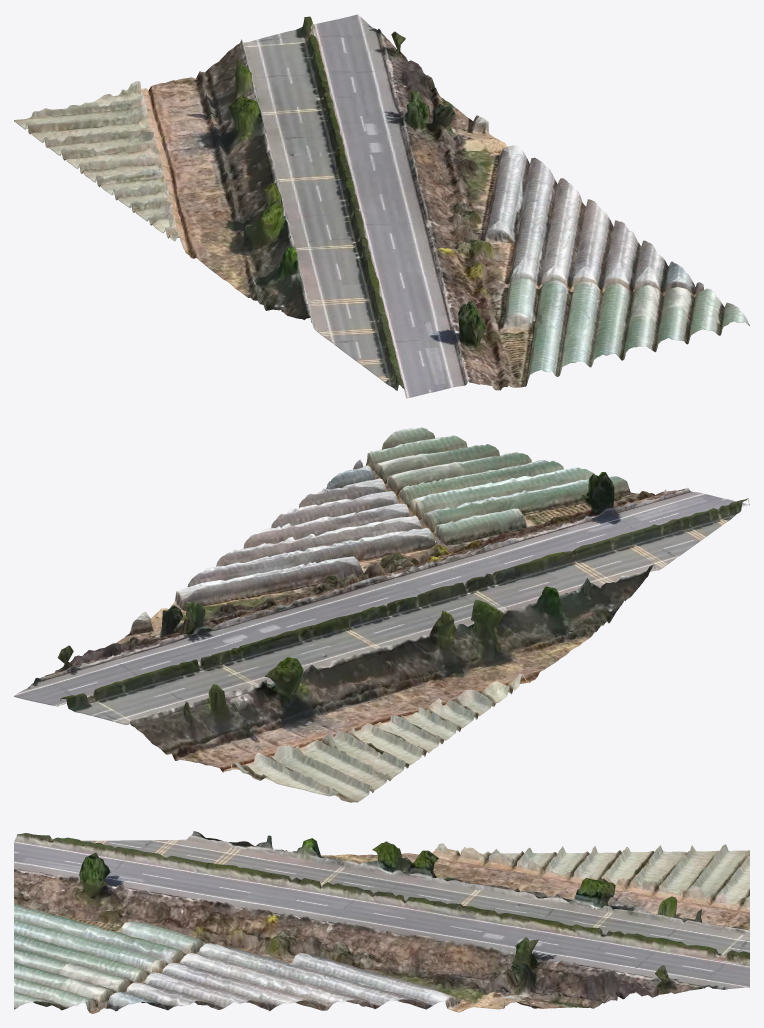
Rendered from BlockYB_L18_46.glb.
3 views of the same model, one above another, from view 1: azimuth 30°, elevation 25°; view 2: azimuth 150°, elevation 25°; view 3: azimuth 270°, elevation 25° (orthographic). The views are drawn at different scales.
Parts seen in each view (by area): view 1: rtc; view 2: rtc; view 3: rtc.
Boxes of the visible parts, left/top/right/bottom form: rtc: left=14, top=14, right=749, bottom=398; rtc: left=14, top=427, right=749, bottom=802; rtc: left=14, top=831, right=749, bottom=1013.
Bounding box in the file's own units: 66.13 × 10.1 × 131.
3 materials, 3 textured.
